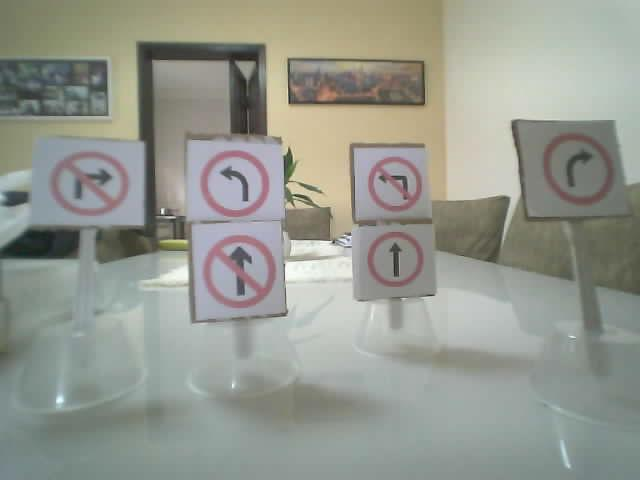R-25a_esquerda: (199, 149, 269, 217)
R-25b_direita: (542, 133, 613, 204)
R-26_frente: (367, 230, 424, 287)
R-3_sentido-proibido: (202, 233, 277, 310)
R-4a_proibido-esquerda: (366, 155, 422, 212)
R-4b_proibido-direita: (50, 150, 128, 216)
